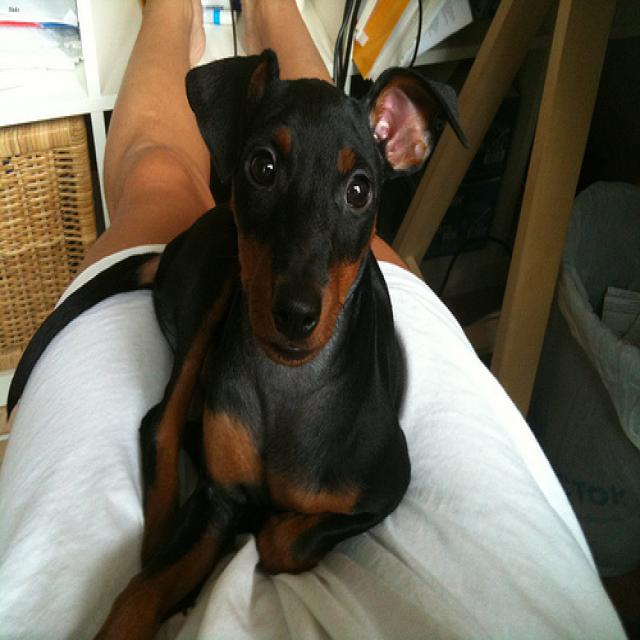dog-miniature_pinscher: (1, 41, 476, 637)
